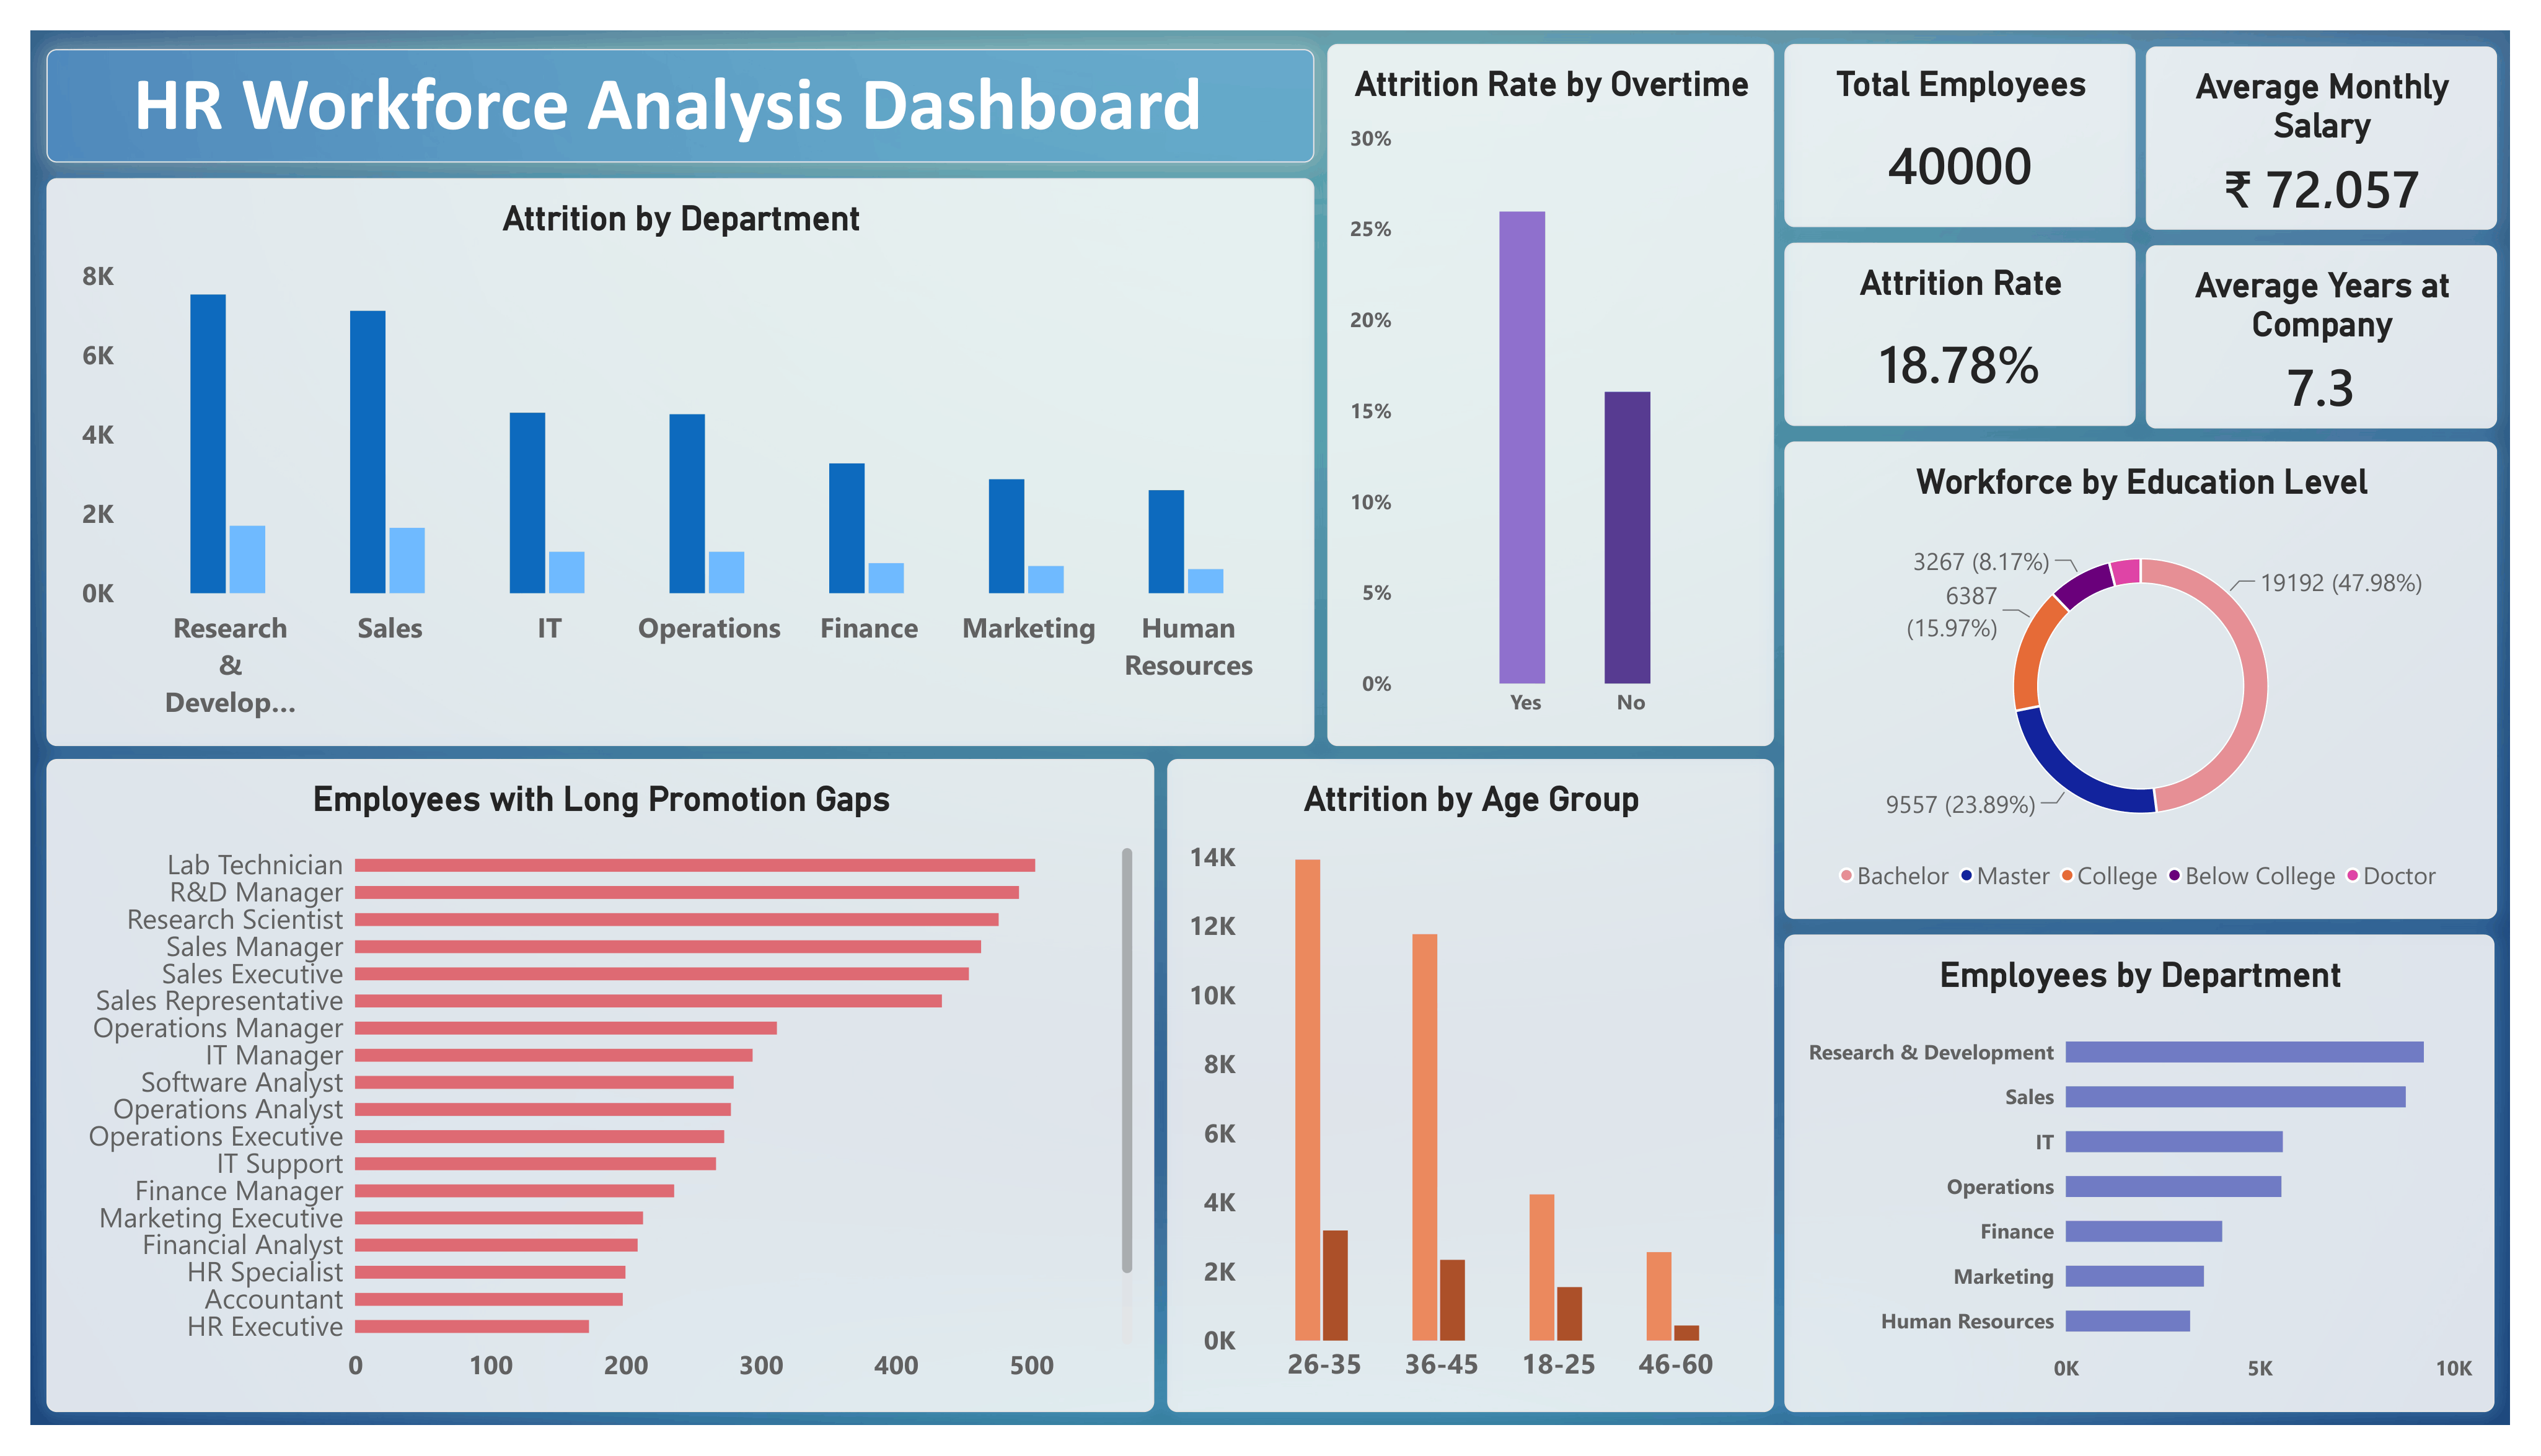

What the dashboard file says about the page in this screenshot:
{"tool":"powerbi","page":{"name":"Page 1","canvas":[1920,1080],"ordinal":0},"visuals":[{"type":"card","title":"Total Employees","fields":{"Values":["Count(HR_Workforce_Analysis_Cleaned_Data.Employee_ID)"]},"box":[1358,10,272,142],"z":0},{"type":"card","title":"Attrition Rate","fields":{"Values":["hr_workforce.Attrition Rate"]},"box":[1358,164,272,142],"z":1},{"type":"card","title":"Average Monthly Salary","fields":{"Values":["hr_workforce.Average Monthly Salary"]},"box":[1638,12,272,142],"z":2},{"type":"card","title":"Average Years at Company","fields":{"Values":["hr_workforce.Average Years at Company"]},"box":[1638,166,272,142],"z":3},{"type":"clusteredBarChart","title":"Employees by Department","fields":{"Category":["hr_workforce.Department"],"Y":["CountNonNull(hr_workforce.Employee_ID)"]},"box":[1358,700,550,370],"z":4},{"type":"clusteredColumnChart","title":"Attrition by Department","fields":{"Category":["hr_workforce.Department"],"Series":["hr_workforce.Attrition"],"Y":["CountNonNull(hr_workforce.Employee_ID)"]},"box":[12,114,982,440],"z":5},{"type":"clusteredColumnChart","title":"Attrition by Age Group","fields":{"Category":["hr_workforce.Age Group"],"Series":["hr_workforce.Attrition"],"Y":["CountNonNull(hr_workforce.Employee_ID)"]},"box":[880,564,470,506],"z":6},{"type":"clusteredColumnChart","title":"Attrition Rate by Overtime","fields":{"Category":["hr_workforce.Overtime"],"Y":["hr_workforce.Attrition Rate"]},"box":[1004,10,346,544],"z":7},{"type":"clusteredBarChart","title":"Employees with Long Promotion Gaps","fields":{"Category":["hr_workforce.Job_Role"],"Y":["CountNonNull(hr_workforce.Employee_ID)"]},"box":[12,564,858,506],"z":8},{"type":"textbox","box":[12,14,982,88],"z":9},{"type":"donutChart","title":"Workforce by Education Level","fields":{"Category":["hr_workforce.Education"],"Y":["CountNonNull(hr_workforce.Employee_ID)"]},"box":[1358,318,552,370],"z":10}]}

Visuals, with their boxes in screenshot pixels (x1, y1, x2, y2):
"Total Employees" card: 1779 26 2134 211
"Attrition Rate" card: 1779 227 2134 413
"Average Monthly Salary" card: 2144 29 2499 214
"Average Years at Company" card: 2144 230 2499 415
"Employees by Department" clusteredBarChart: 1779 926 2497 1410
"Attrition by Department" clusteredColumnChart: 22 162 1304 736
"Attrition by Age Group" clusteredColumnChart: 1155 749 1769 1410
"Attrition Rate by Overtime" clusteredColumnChart: 1317 26 1769 736
"Employees with Long Promotion Gaps" clusteredBarChart: 22 749 1142 1410
textbox: 22 32 1304 146
"Workforce by Education Level" donutChart: 1779 428 2499 911
